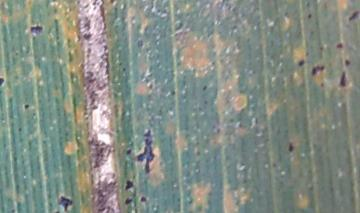tarspot: (136, 129, 155, 172), (57, 194, 73, 213), (339, 71, 348, 89), (312, 63, 325, 75), (123, 179, 135, 191), (29, 25, 43, 35), (347, 11, 360, 21), (287, 143, 294, 153), (124, 198, 133, 205), (344, 58, 351, 67), (299, 58, 305, 68), (336, 43, 344, 50), (23, 103, 30, 110), (140, 196, 147, 203), (1, 76, 5, 88), (319, 81, 325, 89), (202, 84, 208, 91), (171, 89, 176, 97), (125, 148, 131, 154), (122, 66, 127, 72), (307, 13, 312, 19), (109, 1, 115, 4)
